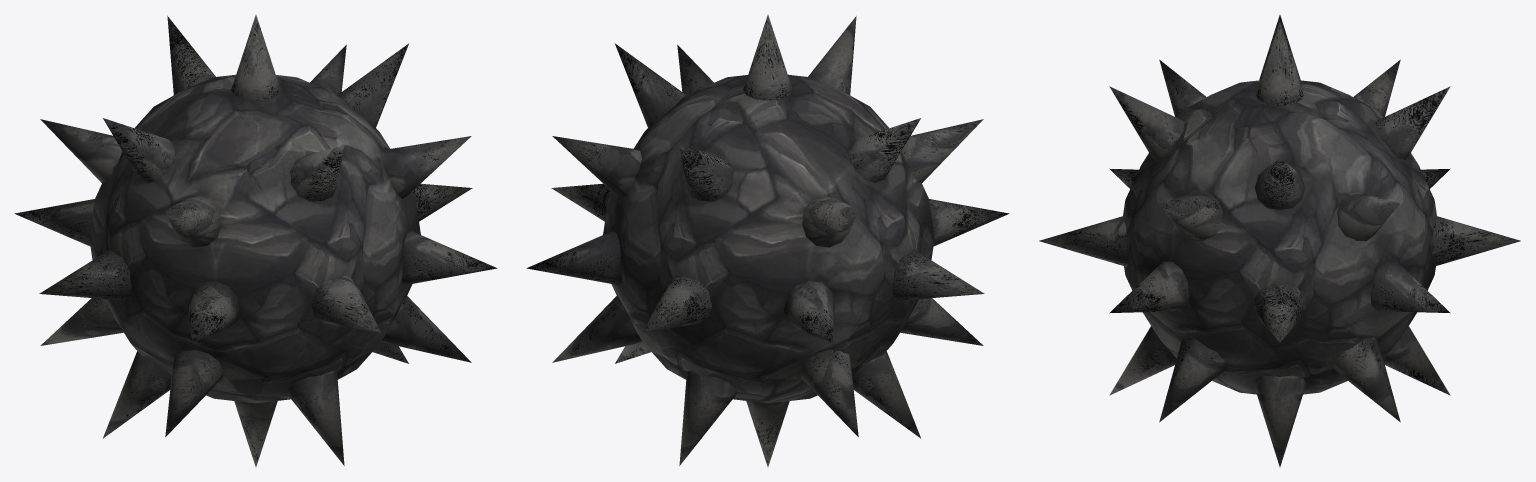
The model's file is enemyMainTexture.fbx.
3 renders of one model, left to right at view 1: azimuth 30°, elevation 25°; view 2: azimuth 150°, elevation 25°; view 3: azimuth 270°, elevation 25°, orthographic. The views are drawn at different scales.
Visible parts, largest first — view 1: sphere, cylinder23, cylinder5, cylinder24, cylinder2, cylinder29, cylinder9, cylinder15, cylinder22, cylinder12, cylinder4, cylinder17 (+10 smaller); view 2: sphere, cylinder27, cylinder6, cylinder26, cylinder2, cylinder21, cylinder8, cylinder15, cylinder28, cylinder12, cylinder7, cylinder17 (+10 smaller); view 3: sphere, cylinder14, cylinder22, cylinder28, cylinder5, cylinder6, cylinder8, cylinder9, cylinder25, cylinder30, cylinder17, cylinder19 (+7 smaller).
Part boxes in pixels (x1,y1,x2,y2): sphere: (89, 74, 420, 403); cylinder23: (165, 350, 223, 436); cylinder5: (402, 231, 497, 285); cylinder24: (286, 371, 344, 465); cylinder2: (39, 249, 131, 300); cylinder29: (382, 136, 471, 198); cylinder9: (312, 275, 380, 332); cylinder15: (103, 351, 171, 438); cylinder22: (381, 296, 471, 362); cylinder12: (103, 118, 175, 182); cylinder4: (188, 280, 239, 342); cylinder17: (231, 15, 280, 100); sphere: (603, 74, 934, 403); cylinder27: (800, 350, 858, 436); cylinder6: (526, 231, 621, 285); cylinder26: (679, 371, 737, 465); cylinder2: (892, 249, 984, 300); cylinder21: (552, 136, 641, 198); cylinder8: (643, 275, 711, 332); cylinder15: (852, 351, 920, 438); cylinder28: (552, 296, 642, 362); cylinder12: (848, 118, 920, 182); cylinder7: (784, 280, 835, 342); cylinder17: (743, 15, 792, 100); sphere: (1122, 80, 1437, 394); cylinder14: (1253, 375, 1306, 466); cylinder22: (1159, 337, 1226, 422); cylinder28: (1333, 337, 1400, 422); cylinder5: (1109, 261, 1189, 313); cylinder6: (1370, 261, 1450, 313); cylinder8: (1431, 216, 1520, 266); cylinder9: (1039, 216, 1128, 266); cylinder25: (1375, 86, 1450, 159); cylinder30: (1109, 86, 1184, 159); cylinder17: (1256, 23, 1303, 105); cylinder19: (1254, 284, 1305, 342).
Bounding box in the file's own units: 12.07 × 12.07 × 12.07.
